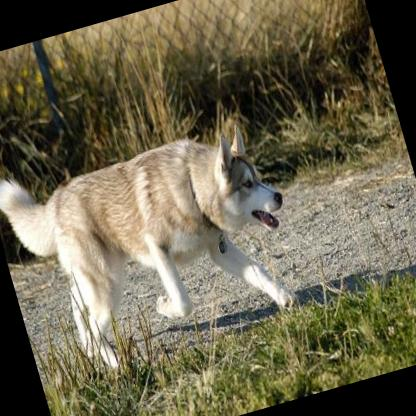Siberian_husky: (0, 99, 313, 383)
